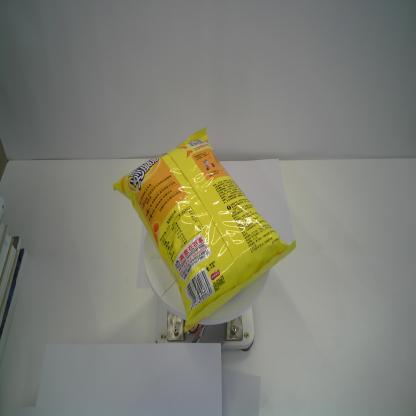Puffed Food: (111, 125, 299, 334)
